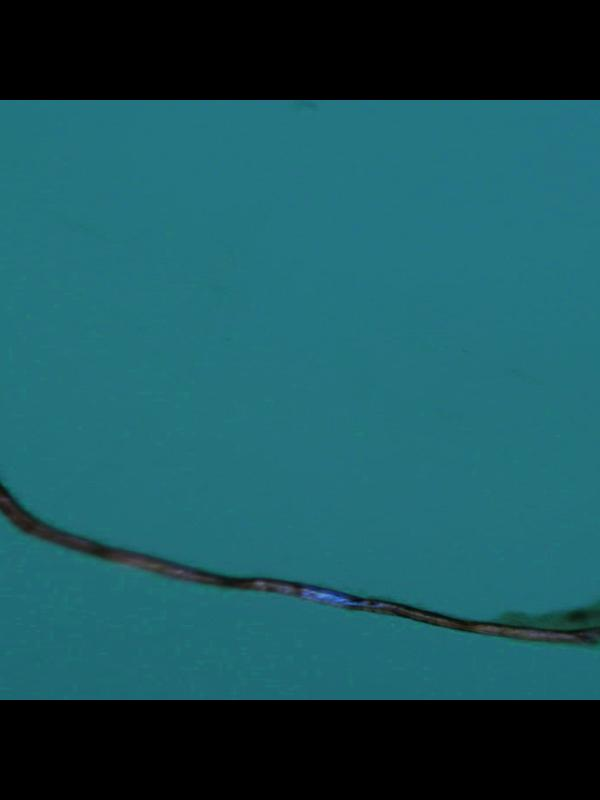microplastic: (0, 264, 600, 647)
